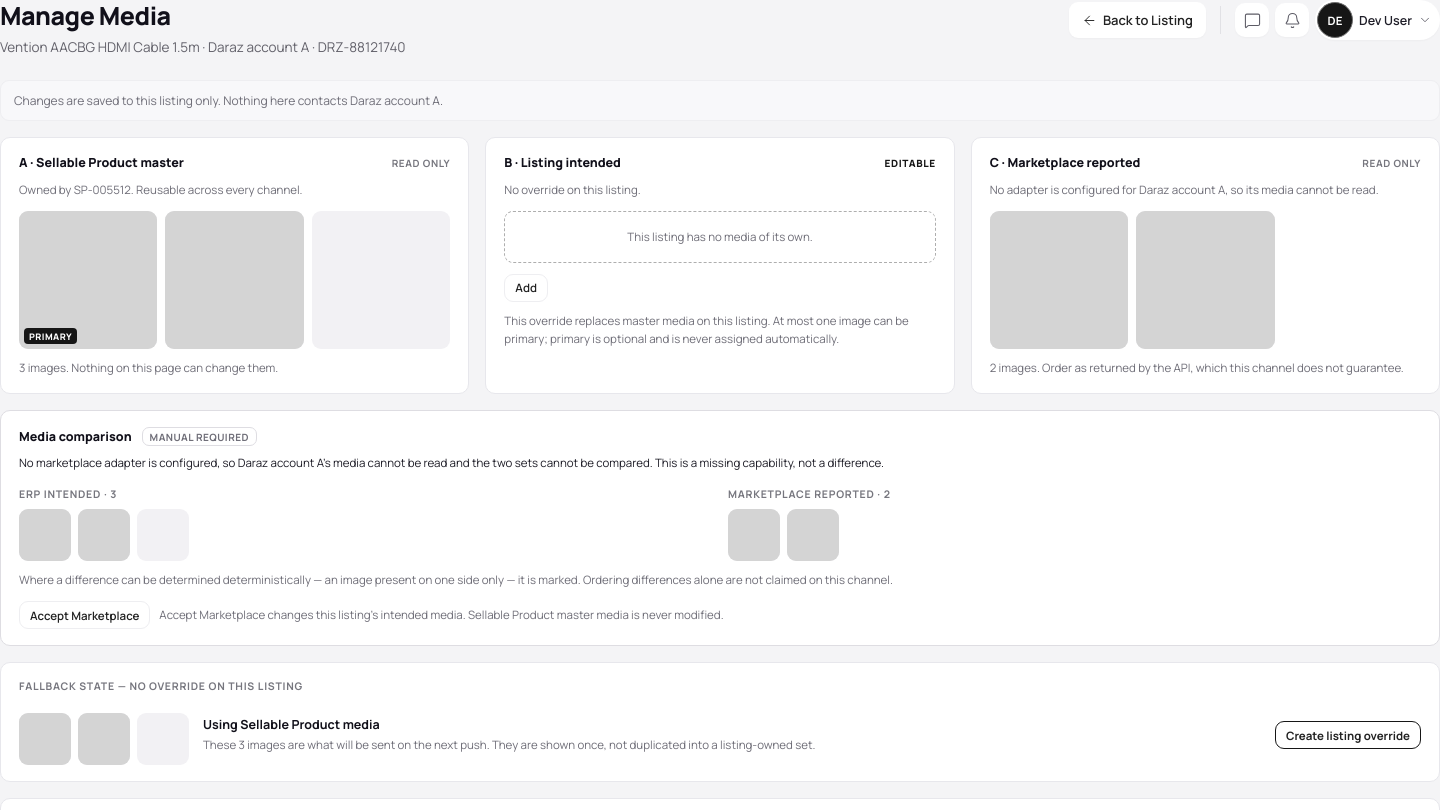
Test: Frame 13 — effective media › creates an override explicitly, and starts it empty
Expected: the element with test id "media-master" is shown, [0,137,469,394]
What coordinates should you click on to do the following:
click the button with test id "media-create-override"
I would click on:
 (1348, 735)
Its box is [1275,721,1421,749].
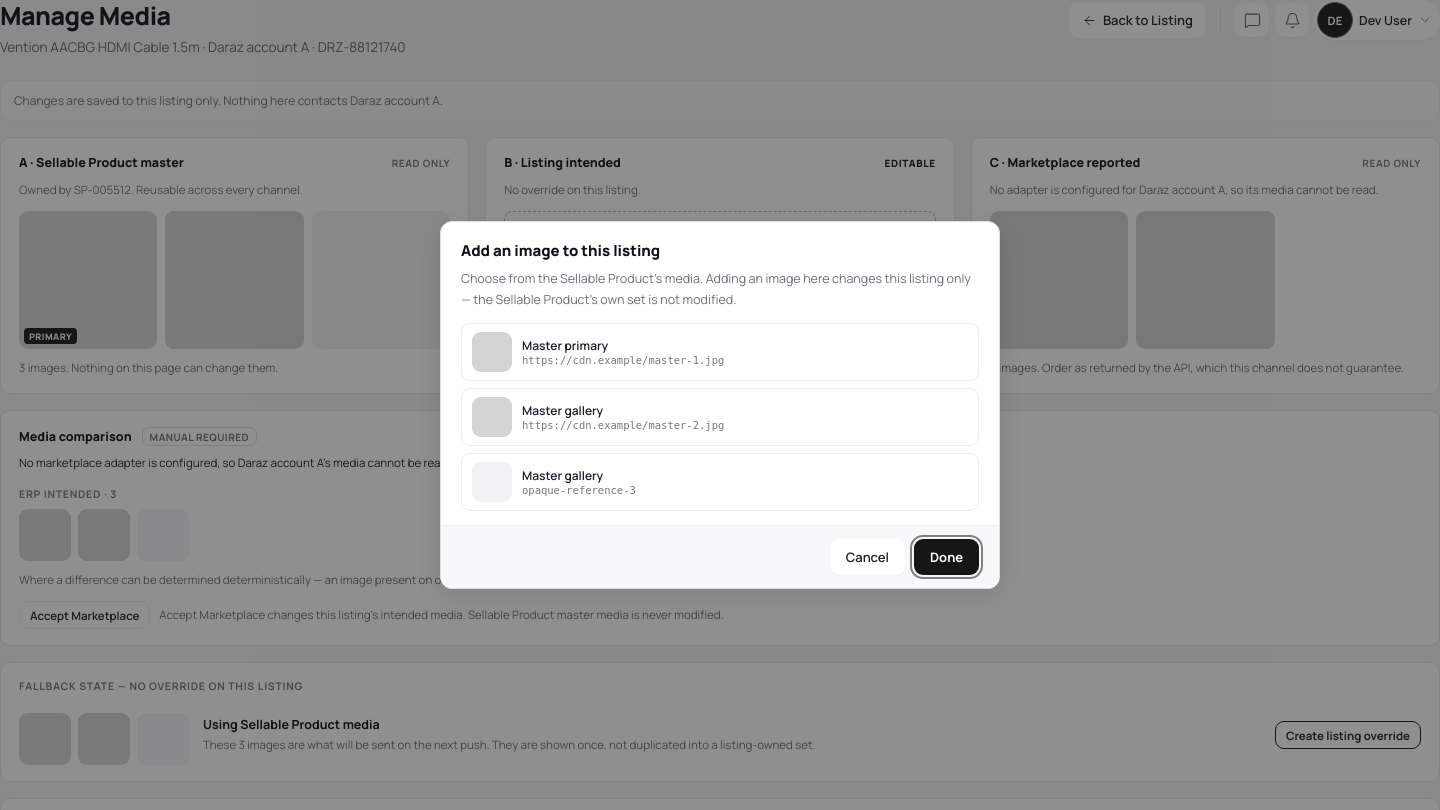
Now the dialog with test id "media-picker" is shown, box [440,221,1000,589]
